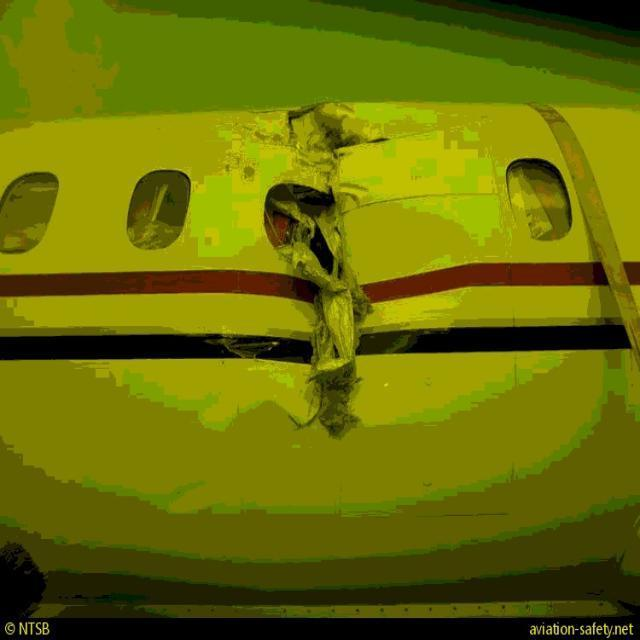crack: (277, 100, 392, 441)
